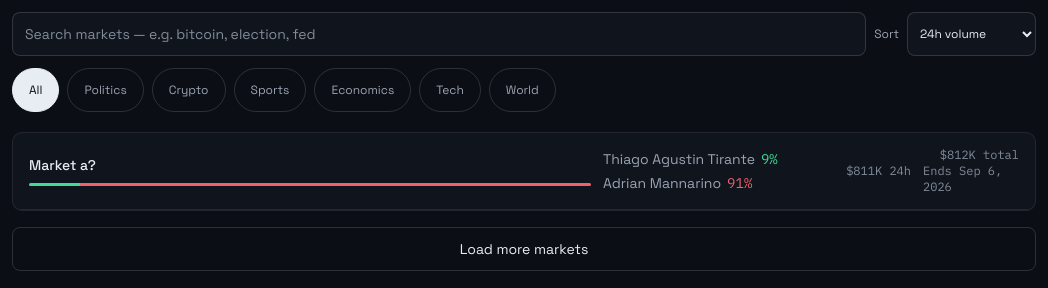
Test: Load more (UX-1) › is absent while searching when the exchange reports no more results
Check: the heading "Market a?" is shown, box [29, 156, 96, 174]
Check: the button "Load more markets" is shown, box [12, 227, 1036, 271]
Type "fed" into the search field labelled "Search markets — e.g. bitcoin, election, fed" at (439, 34), box [12, 12, 866, 56]
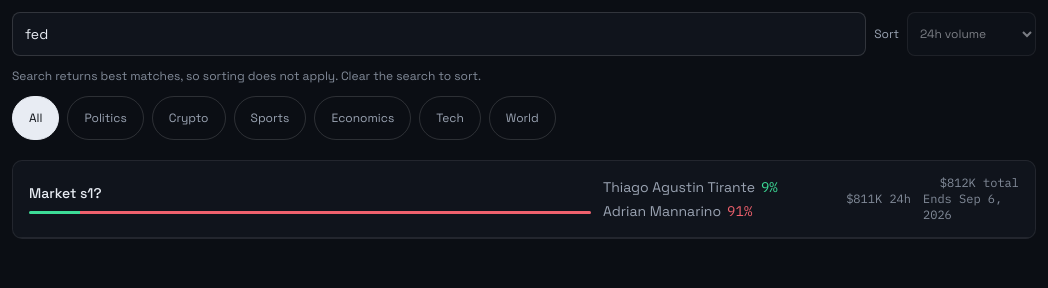
Check: the heading "Market s1?" is shown, box [29, 184, 102, 202]
Check: the button "Load more" is gone
